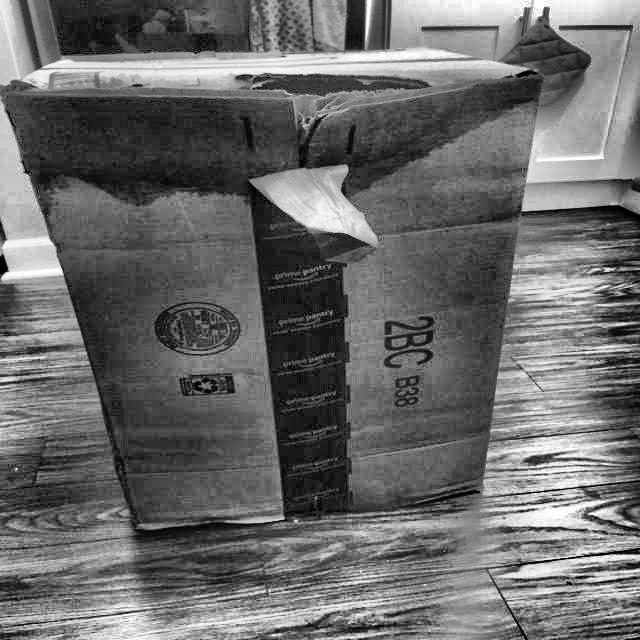box: (0, 37, 555, 549)
wet: (3, 70, 541, 256)
